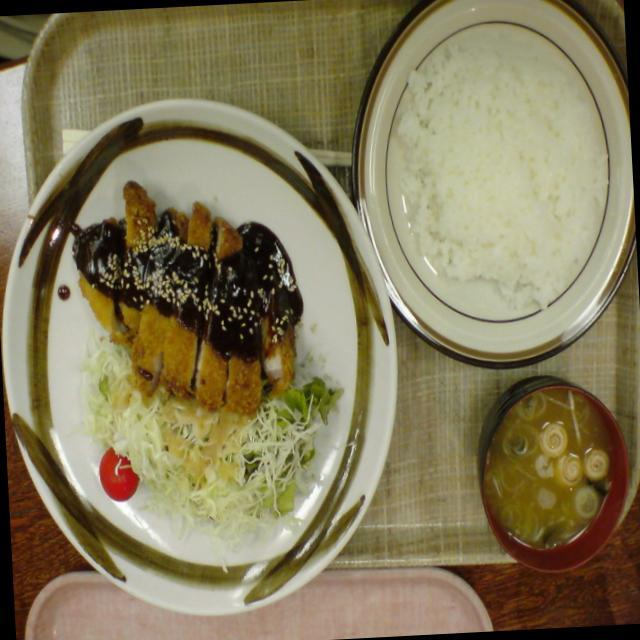Rice: (346, 0, 640, 386)
